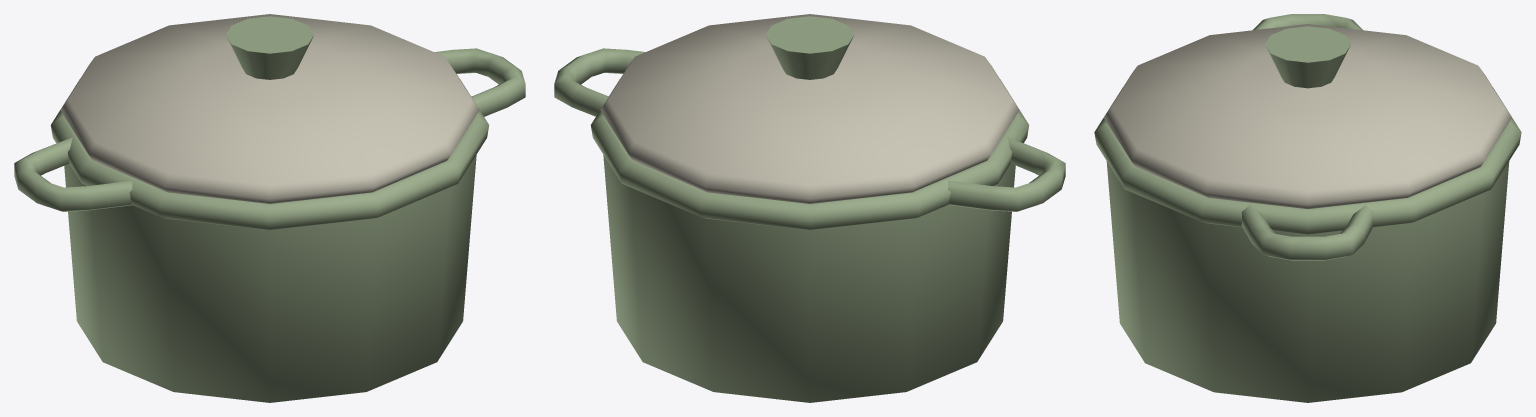
Rendered from Dish_01.fbx.
3 views of the same model, side by side, from view 1: azimuth 30°, elevation 25°; view 2: azimuth 150°, elevation 25°; view 3: azimuth 270°, elevation 25° (orthographic). The views are drawn at different scales.
Parts seen in each view (by area): view 1: Dish_01, Dish_01_Lid; view 2: Dish_01, Dish_01_Lid; view 3: Dish_01, Dish_01_Lid.
Part boxes in pixels (x1,y1,x2,y2): Dish_01: (14,48,525,402); Dish_01_Lid: (60,14,479,203); Dish_01: (554,48,1065,402); Dish_01_Lid: (600,14,1019,203); Dish_01: (1094,14,1521,402); Dish_01_Lid: (1104,24,1511,208).
Bounding box in the file's own units: 0.3369 × 0.2044 × 0.2639.
